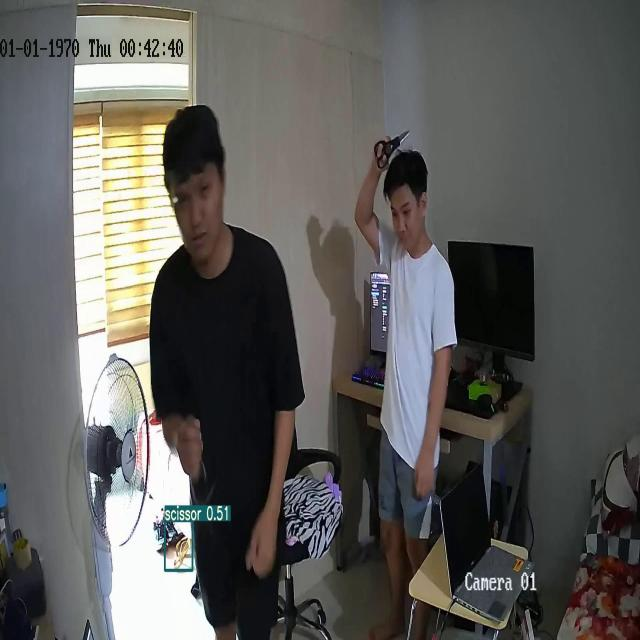scissor: (374, 130, 409, 168)
